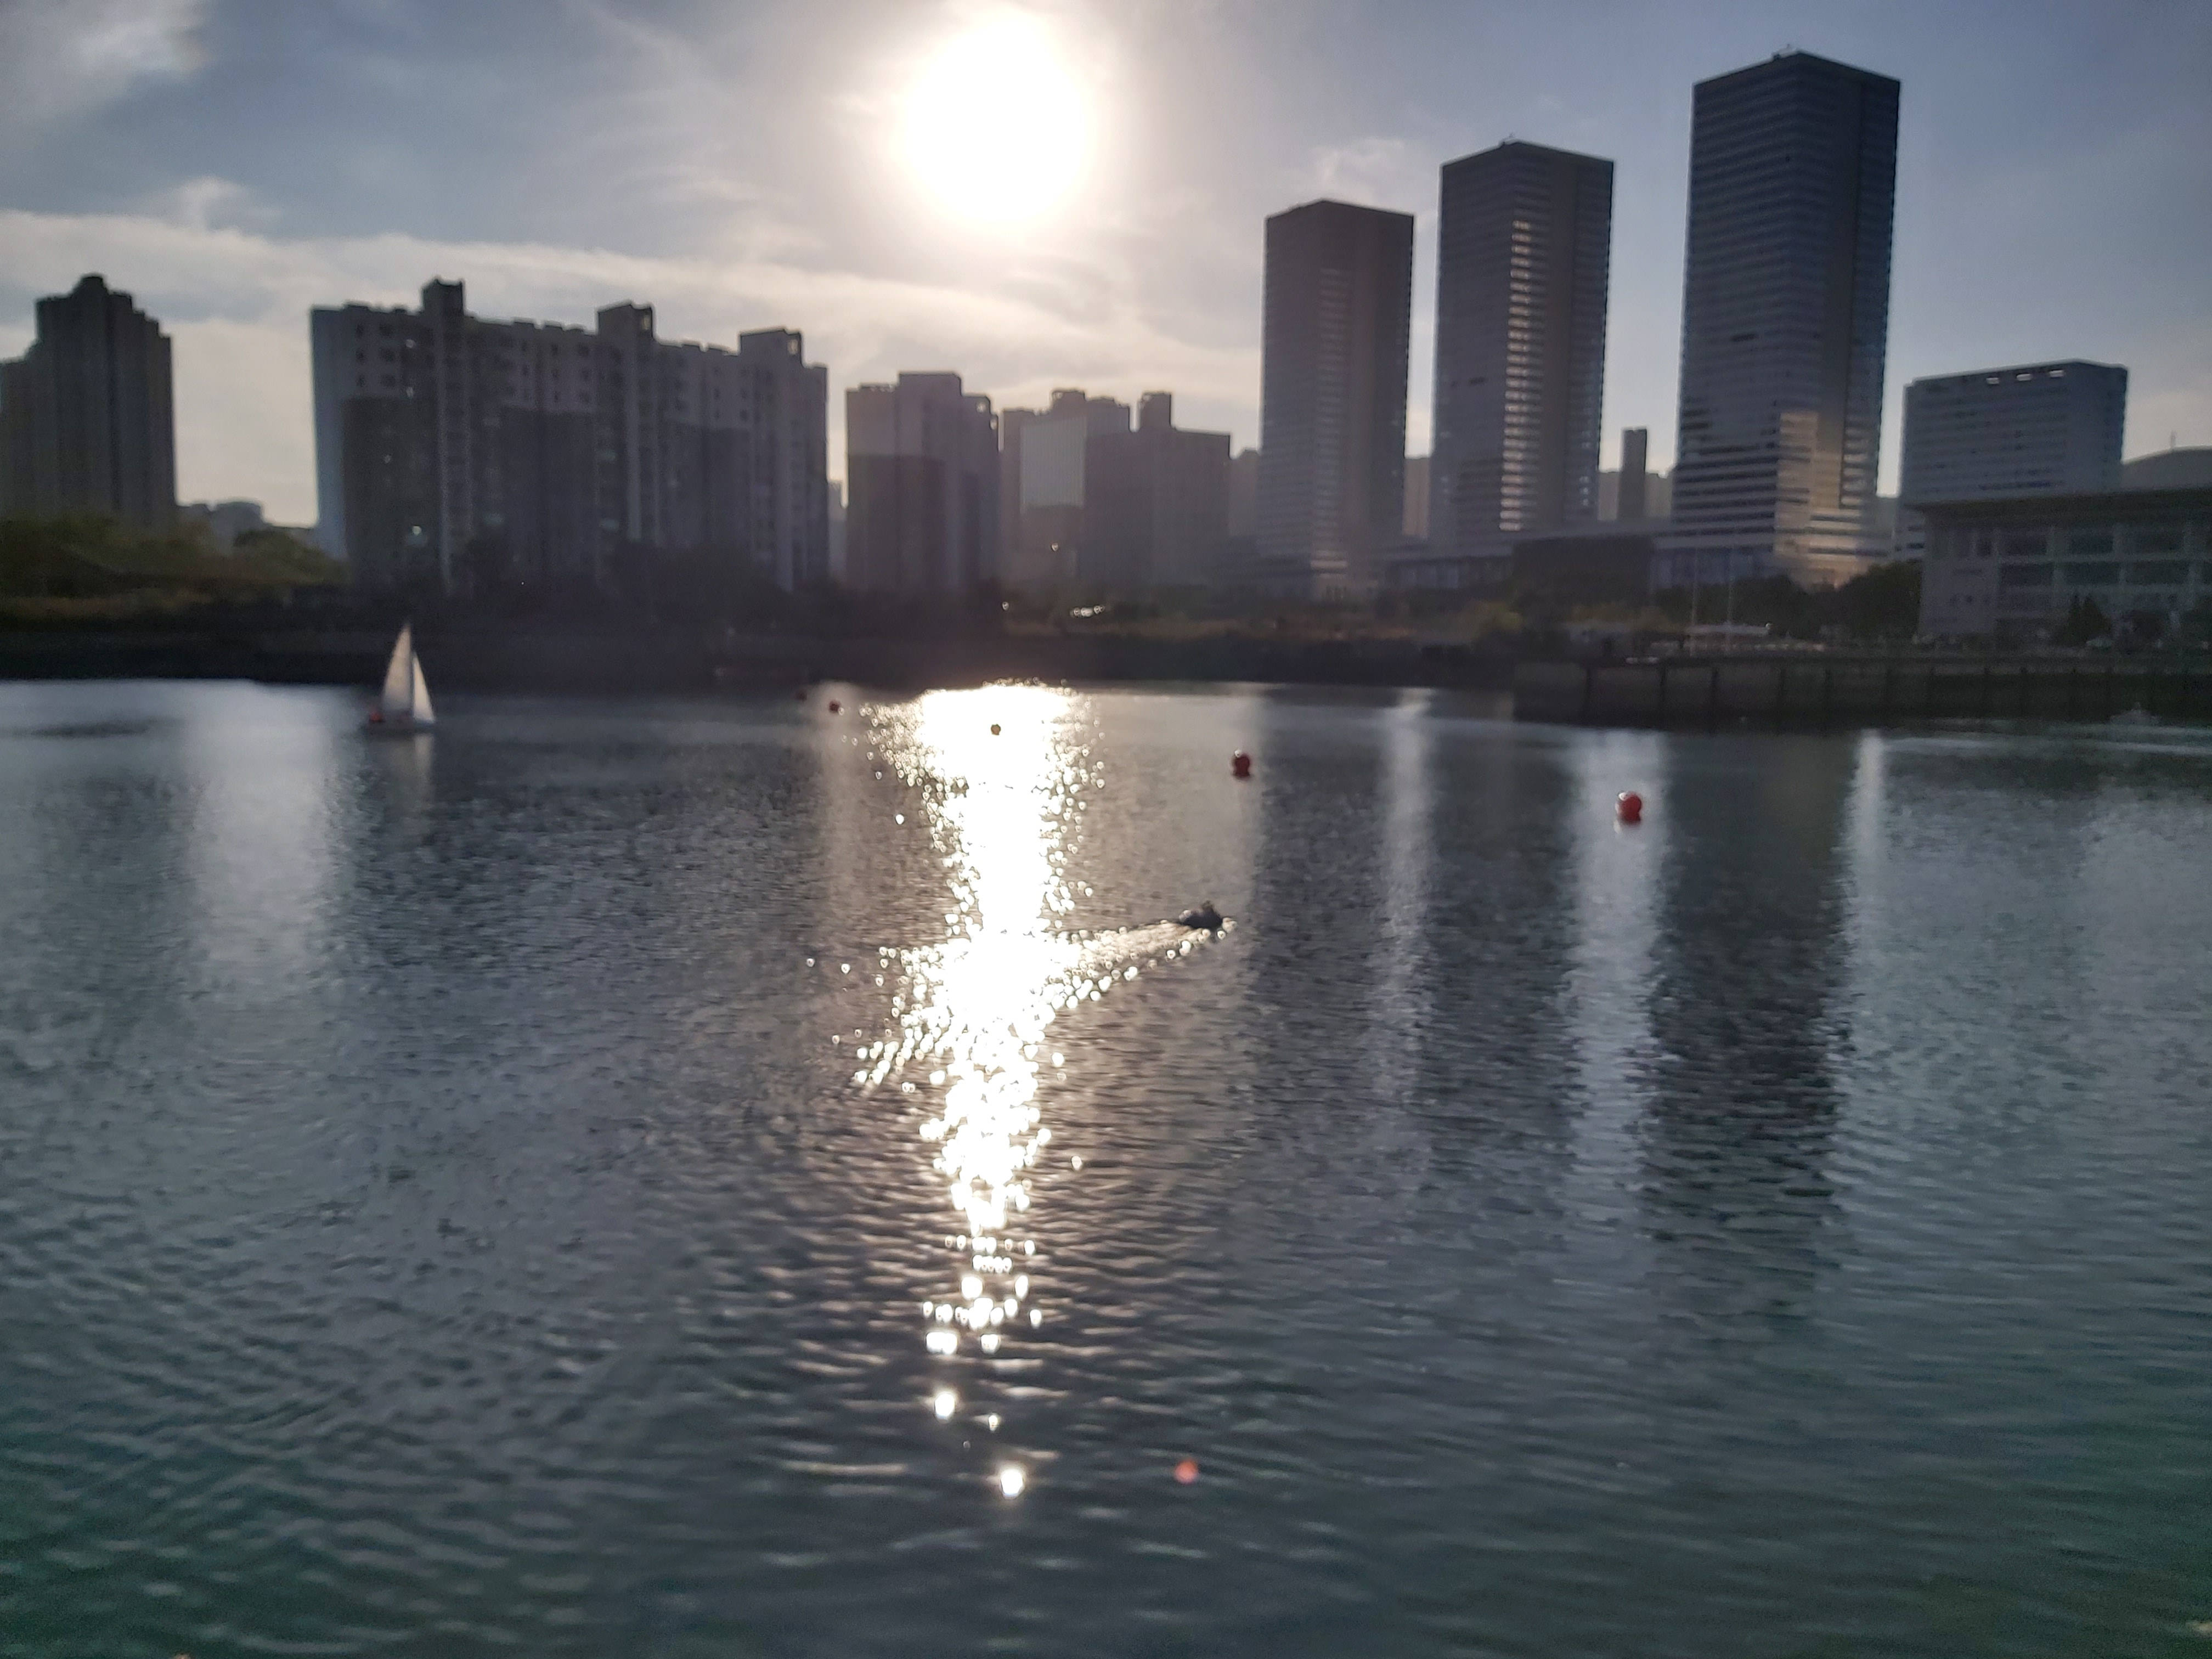ball: (1609, 786, 1649, 823), (1226, 748, 1256, 777)
boat: (357, 622, 455, 748), (1177, 890, 1230, 938)
